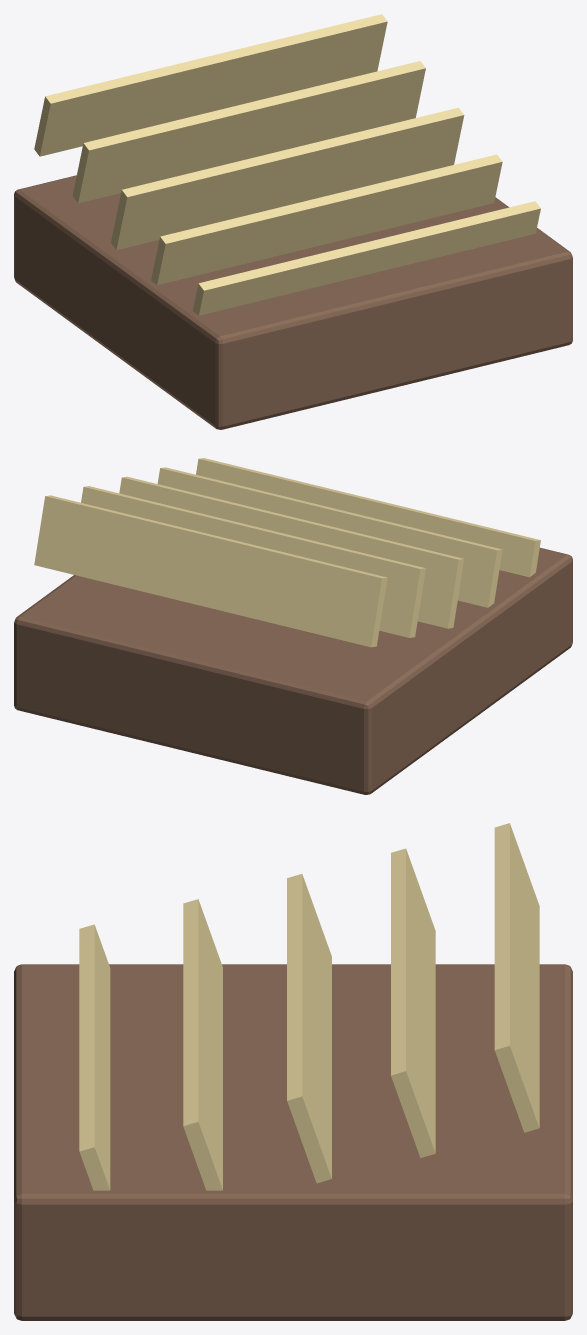
Rendered from CassetteOrganizerRack.fbx.
3 views of the same model, one above another, from view 1: azimuth 30°, elevation 25°; view 2: azimuth 150°, elevation 25°; view 3: azimuth 270°, elevation 25° (orthographic). The views are drawn at different scales.
Visible parts, largest first — view 1: Rack_Base, Divider_4, Divider_2, Divider_3, Divider_1, Divider_0; view 2: Rack_Base, Divider_4, Divider_2, Divider_3, Divider_1, Divider_0; view 3: Rack_Base, Divider_4, Divider_3, Divider_2, Divider_1, Divider_0.
Part boxes in pixels (x1,y1,x2,y2): Rack_Base: (14,175,572,429); Divider_4: (34,14,387,156); Divider_2: (111,107,464,249); Divider_3: (72,61,425,203); Divider_1: (151,154,502,285); Divider_0: (192,201,540,315); Rack_Base: (14,547,572,794); Divider_4: (34,495,387,647); Divider_2: (119,476,464,628); Divider_3: (81,486,425,637); Divider_1: (157,467,502,607); Divider_0: (196,458,540,577); Rack_Base: (14,964,572,1320); Divider_4: (494,823,539,1132); Divider_3: (391,848,435,1157); Divider_2: (287,874,331,1183); Divider_1: (183,899,222,1190); Divider_0: (79,924,110,1190).
Bounding box in the file's own units: 0.14 × 0.075 × 0.14.
